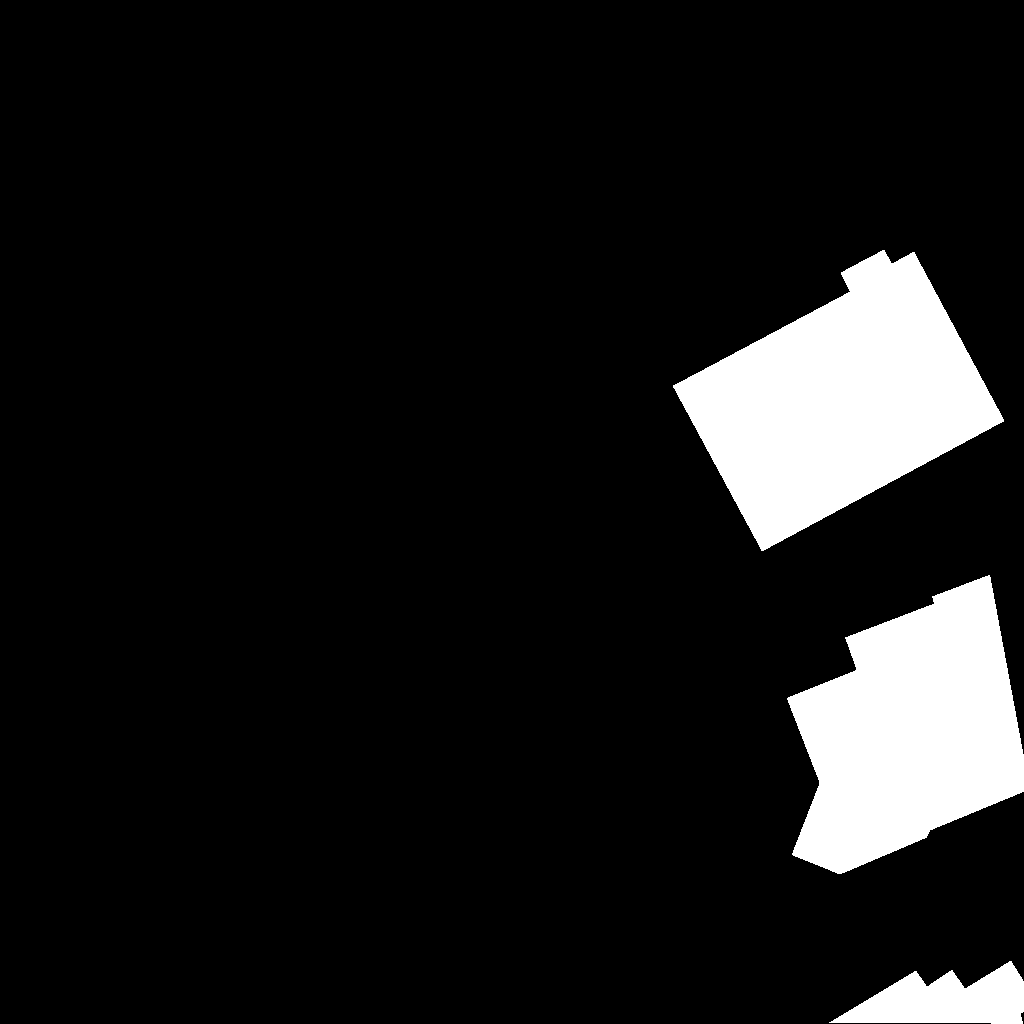building: (673, 250, 1005, 552), (787, 575, 1024, 875), (829, 961, 1024, 1024)
